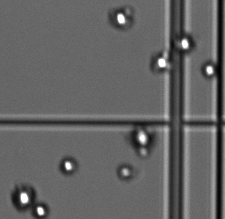Living Cell: (10, 183, 34, 209), (110, 6, 132, 31), (132, 125, 153, 151), (58, 156, 80, 176), (152, 51, 171, 72), (173, 34, 194, 52), (116, 162, 137, 179), (32, 202, 50, 218), (202, 60, 217, 78)
